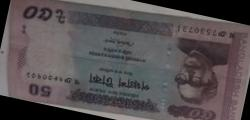50 taka: (12, 2, 242, 120)
